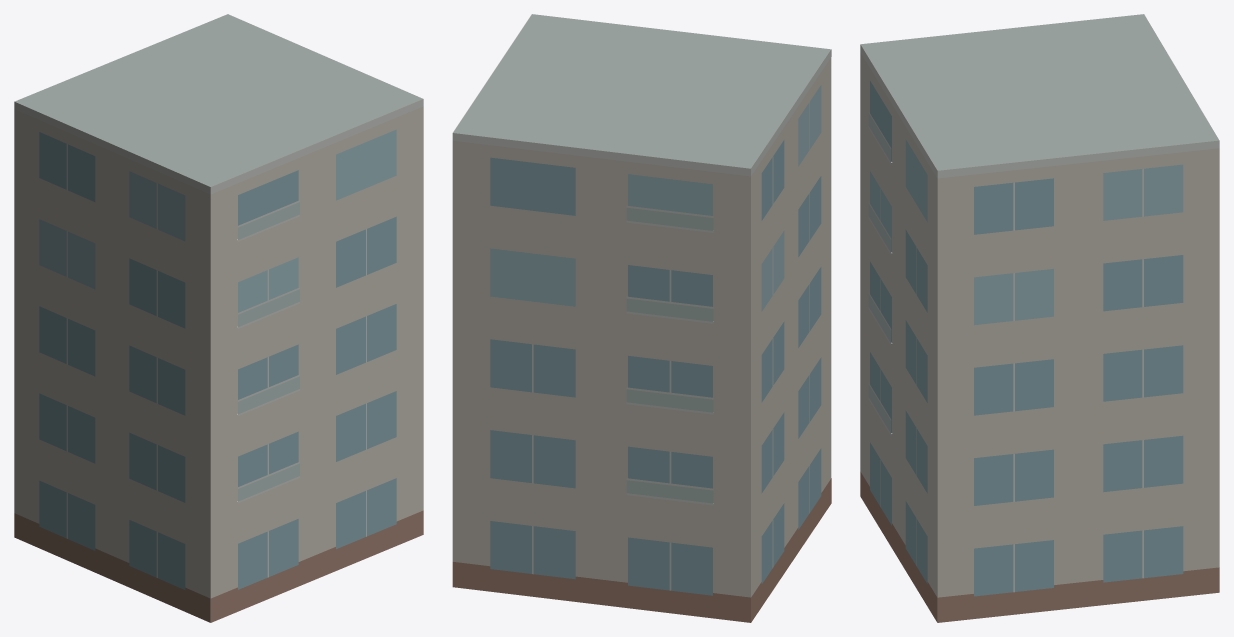
File: survey-upis-32564471.glb
3 renders of one model, left to right at view 1: azimuth 30°, elevation 25°; view 2: azimuth 150°, elevation 25°; view 3: azimuth 270°, elevation 25°, orthographic. The views are drawn at different scales.
Parts seen in each view (by area): view 1: survey-upis-32564471.tmp; view 2: survey-upis-32564471.tmp; view 3: survey-upis-32564471.tmp.
Part boxes in pixels (x1=…): survey-upis-32564471.tmp: x1=14, y1=14, x2=423, y2=622; survey-upis-32564471.tmp: x1=452, y1=14, x2=831, y2=622; survey-upis-32564471.tmp: x1=860, y1=14, x2=1219, y2=622.
Bounding box in the file's own units: 10.76 × 14.45 × 10.42.
